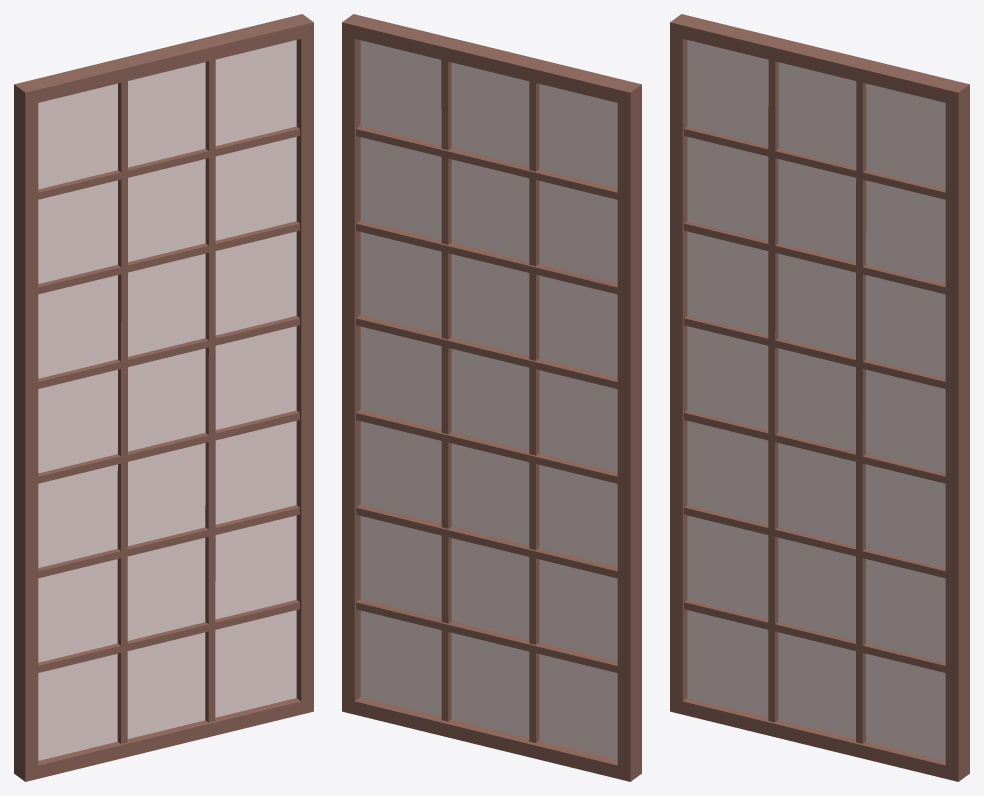
Rendered from window_034.fbx.
3 renders of one model, left to right at view 1: azimuth 30°, elevation 25°; view 2: azimuth 150°, elevation 25°; view 3: azimuth 330°, elevation 25°, orthographic.
Visible parts, largest first — view 1: window_034; view 2: window_034; view 3: window_034.
Boxes of the visible parts, x1,y1,x2,y2 form: window_034: [14, 14, 313, 781]; window_034: [342, 14, 641, 781]; window_034: [670, 14, 969, 781].
Bounding box in the file's own units: 121 × 8.31 × 276.
